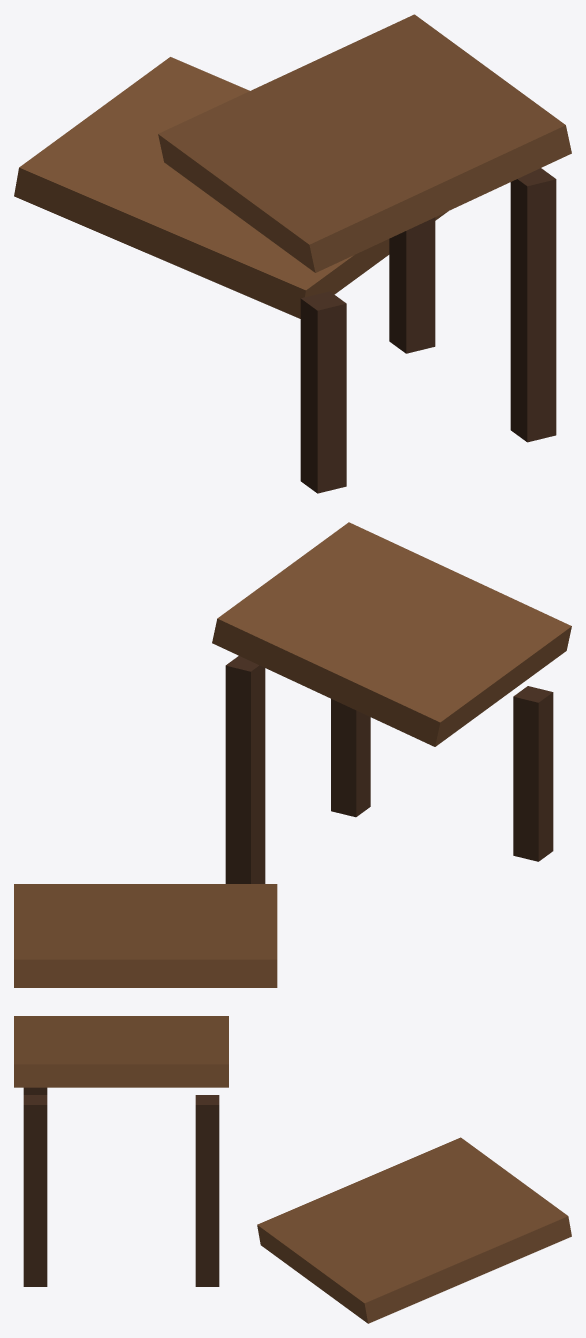
The model's file is broken_chair.glb.
3 renders of one model, top to bottom at view 1: azimuth 30°, elevation 25°; view 2: azimuth 150°, elevation 25°; view 3: azimuth 270°, elevation 25°, orthographic. The views are drawn at different scales.
Parts seen in each view (by area): view 1: broken_chair; view 2: broken_chair; view 3: broken_chair.
Boxes of the visible parts, x1=… form: broken_chair: x1=14, y1=14, x2=571, y2=493; broken_chair: x1=14, y1=522, x2=571, y2=987; broken_chair: x1=14, y1=1016, x2=571, y2=1323.
Size of the model in its own units: 0.6775 by 0.5157 by 1.17.
